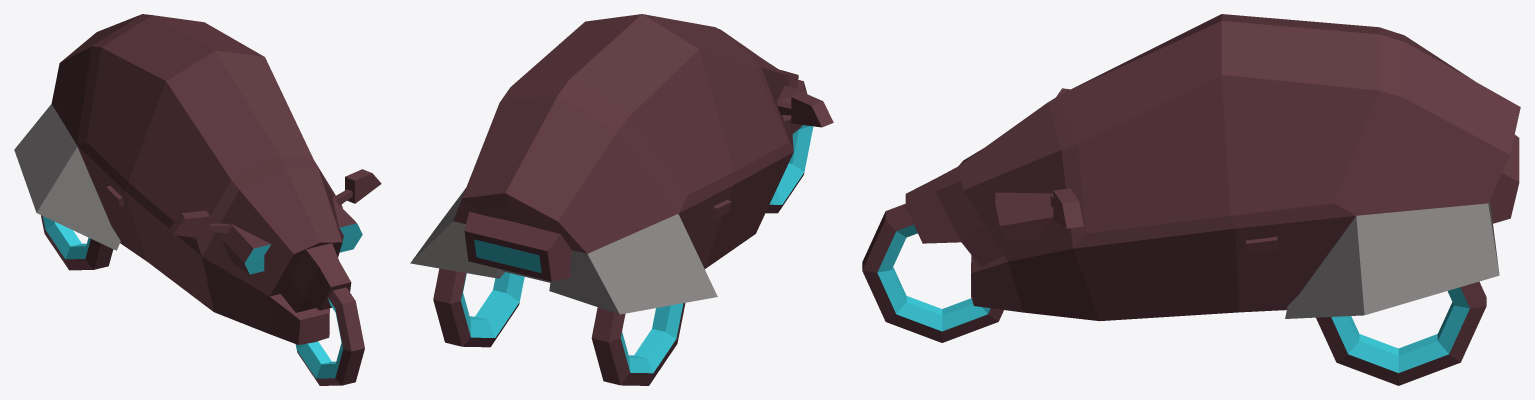
The model's file is scifi-tribike.fbx.
The picture shows the model from 3 angles, left to right: view 1: azimuth 30°, elevation 25°; view 2: azimuth 150°, elevation 25°; view 3: azimuth 270°, elevation 25°; orthographic projection. The views are drawn at different scales.
Visible parts, largest first — view 1: scifi-tribike-base, scifi-tribike-wheel-F, scifi-tribike-wheel-B; view 2: scifi-tribike-base, scifi-tribike-wheel-B, scifi-tribike-wheel-F; view 3: scifi-tribike-base, scifi-tribike-wheel-B, scifi-tribike-wheel-F.
Part boxes in pixels (box(x1,y1,x2,y2)): scifi-tribike-base: box(14, 14, 381, 344); scifi-tribike-wheel-F: box(295, 287, 364, 385); scifi-tribike-wheel-B: box(41, 215, 113, 270); scifi-tribike-base: box(410, 14, 833, 314); scifi-tribike-wheel-B: box(433, 268, 685, 385); scifi-tribike-wheel-F: box(765, 80, 813, 213); scifi-tribike-base: box(905, 14, 1520, 320); scifi-tribike-wheel-B: box(1316, 281, 1486, 385); scifi-tribike-wheel-F: box(862, 203, 1003, 342).
Size of the model in its own units: 1.59 by 1.57 by 2.94.
